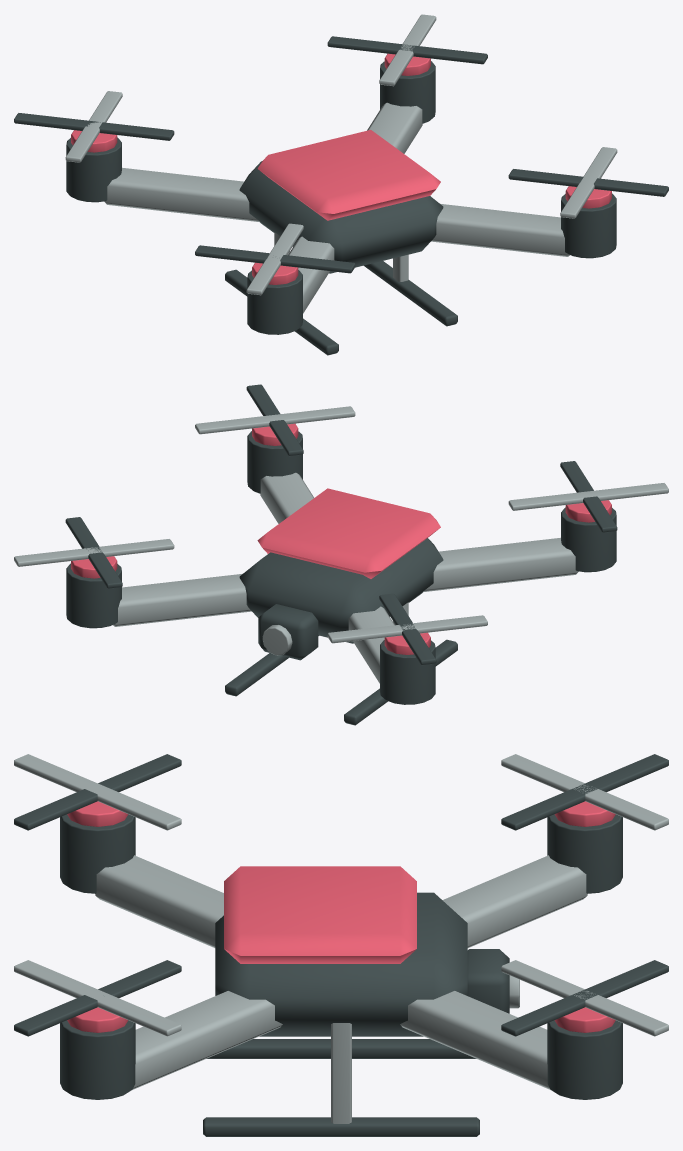
Rendered from aerial-red.glb.
The picture shows the model from 3 angles, top to bottom: view 1: azimuth 30°, elevation 25°; view 2: azimuth 150°, elevation 25°; view 3: azimuth 270°, elevation 25°; orthographic projection. The views are drawn at different scales.
Visible parts, largest first — view 1: aerial-chassis, aerial-mechanics, aerial-armor; view 2: aerial-chassis, aerial-mechanics, aerial-armor; view 3: aerial-chassis, aerial-mechanics, aerial-armor.
Part boxes in pixels (bbox=[...]): aerial-chassis: bbox=[14, 36, 668, 355]; aerial-mechanics: bbox=[65, 14, 617, 313]; aerial-armor: bbox=[71, 53, 611, 284]; aerial-chassis: bbox=[65, 384, 617, 725]; aerial-mechanics: bbox=[14, 406, 668, 683]; aerial-armor: bbox=[71, 423, 611, 654]; aerial-chassis: bbox=[14, 754, 668, 1136]; aerial-mechanics: bbox=[14, 754, 668, 1123]; aerial-armor: bbox=[67, 801, 615, 1032].
Size of the model in its own units: 0.7794 by 0.2665 by 0.7794.
